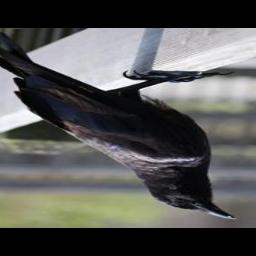Crow: (0, 33, 236, 220)
